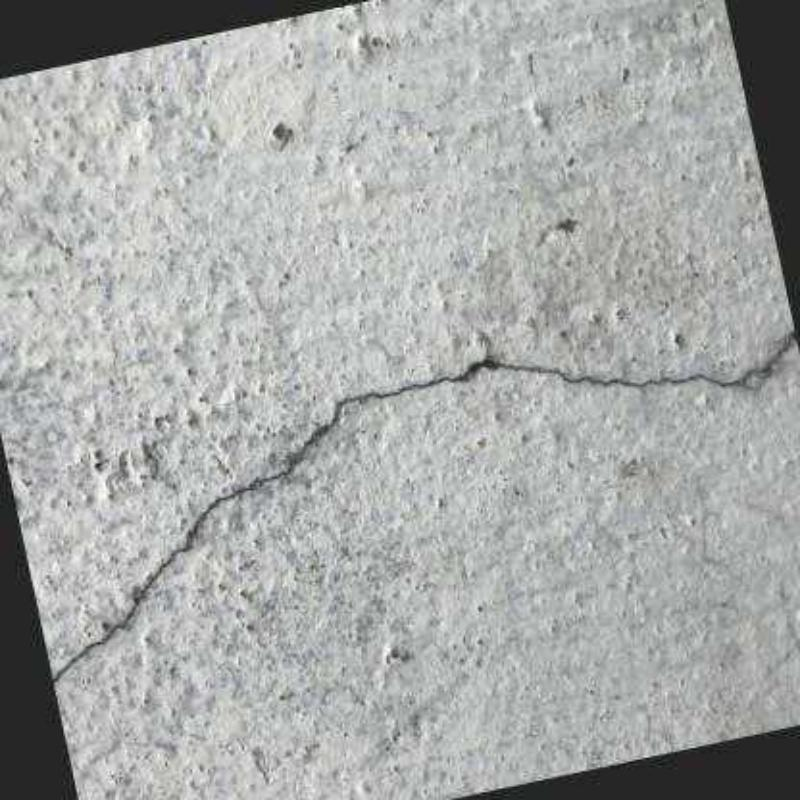crack: (53, 331, 798, 682)
